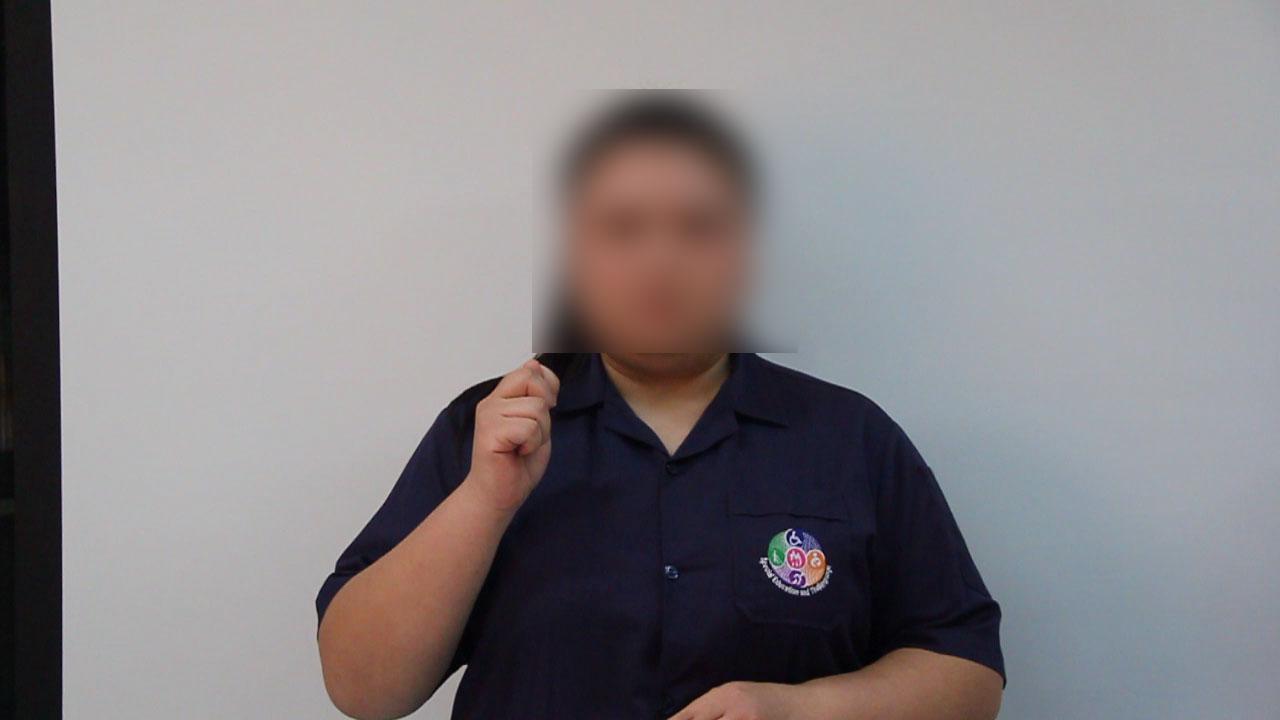tor: (456, 344, 589, 521)
